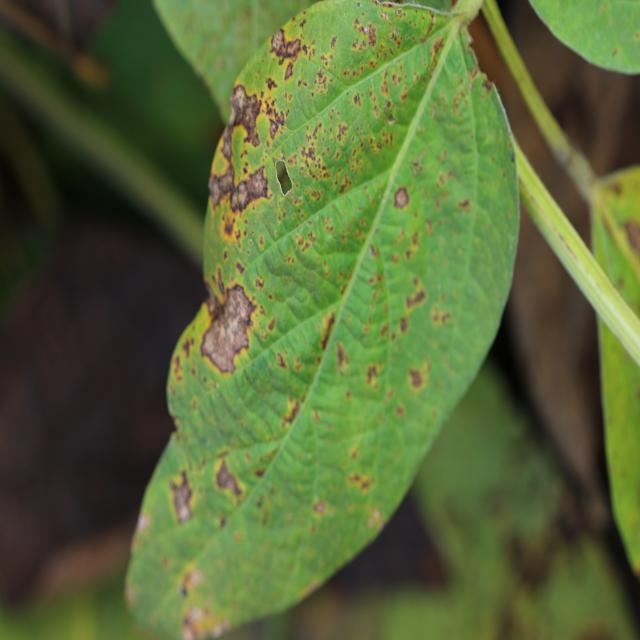Bacterial_Blight: (199, 281, 255, 374), (181, 603, 216, 640), (214, 458, 243, 502), (208, 165, 236, 209), (269, 28, 303, 62), (350, 18, 380, 56), (171, 479, 194, 522), (387, 186, 416, 217), (401, 224, 423, 262), (201, 277, 222, 315), (230, 179, 253, 213), (274, 159, 294, 197), (208, 264, 227, 302), (318, 312, 337, 350), (229, 83, 248, 120), (180, 566, 203, 596), (309, 66, 331, 96), (347, 470, 374, 493), (249, 170, 269, 201), (281, 398, 300, 427), (405, 286, 426, 310), (430, 304, 451, 327), (256, 497, 272, 527), (429, 36, 446, 64), (295, 229, 313, 255), (335, 342, 350, 370), (300, 144, 318, 166), (408, 367, 425, 389), (181, 336, 195, 360), (365, 365, 380, 387), (172, 354, 184, 381), (268, 117, 282, 140), (366, 509, 382, 529), (320, 51, 335, 71), (312, 498, 329, 515), (136, 511, 149, 533), (125, 582, 137, 605), (385, 104, 398, 125), (223, 216, 235, 237), (276, 351, 288, 371), (336, 122, 348, 142), (249, 127, 261, 147), (380, 74, 389, 99), (348, 443, 361, 460), (481, 76, 493, 93), (311, 123, 322, 141), (457, 197, 471, 211), (284, 62, 294, 80), (265, 76, 277, 91), (380, 11, 391, 25), (399, 317, 408, 333), (369, 243, 378, 259), (254, 466, 266, 478), (254, 277, 265, 290), (395, 7, 406, 20), (395, 404, 405, 417), (236, 261, 245, 274), (312, 409, 321, 422), (353, 92, 361, 106), (219, 516, 227, 529), (180, 584, 188, 597), (330, 35, 337, 49), (391, 27, 398, 40), (354, 19, 362, 30), (509, 150, 515, 163), (223, 250, 229, 260), (364, 26, 369, 34), (361, 11, 366, 18), (274, 230, 279, 237), (357, 2, 362, 8)
Soybean: (126, 0, 519, 639)
